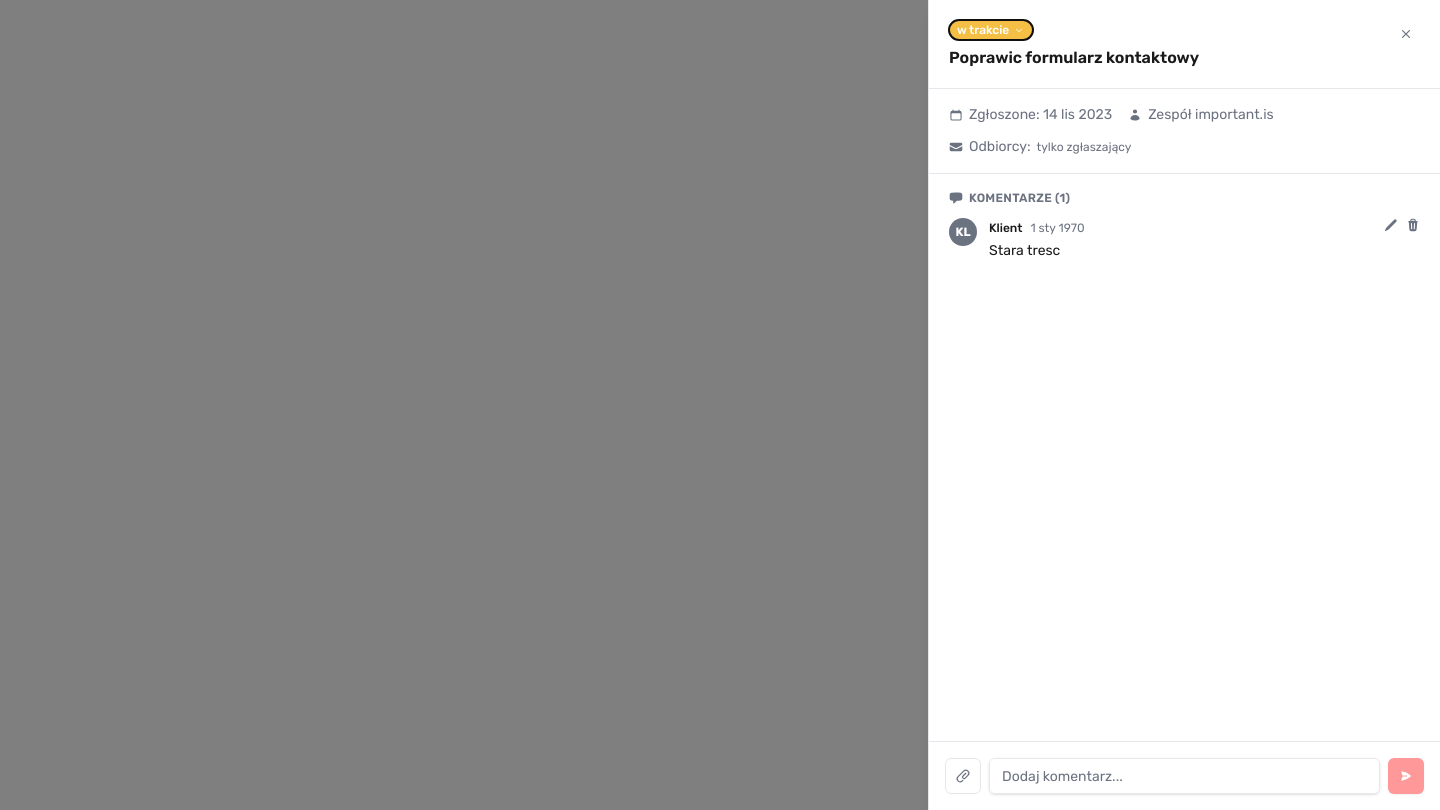
Test case: koegzystencja dropdownu statusu i edycji komentarza › otwarcie menu statusu NIE rusza trybu edycji komentarza
The image size is (1440, 810).
Check: the text "Stara tresc" is shown, box [989,242,1060,259]
Click the button named "Edytuj komentarz" at (1391, 225), box [1384,218,1398,232]
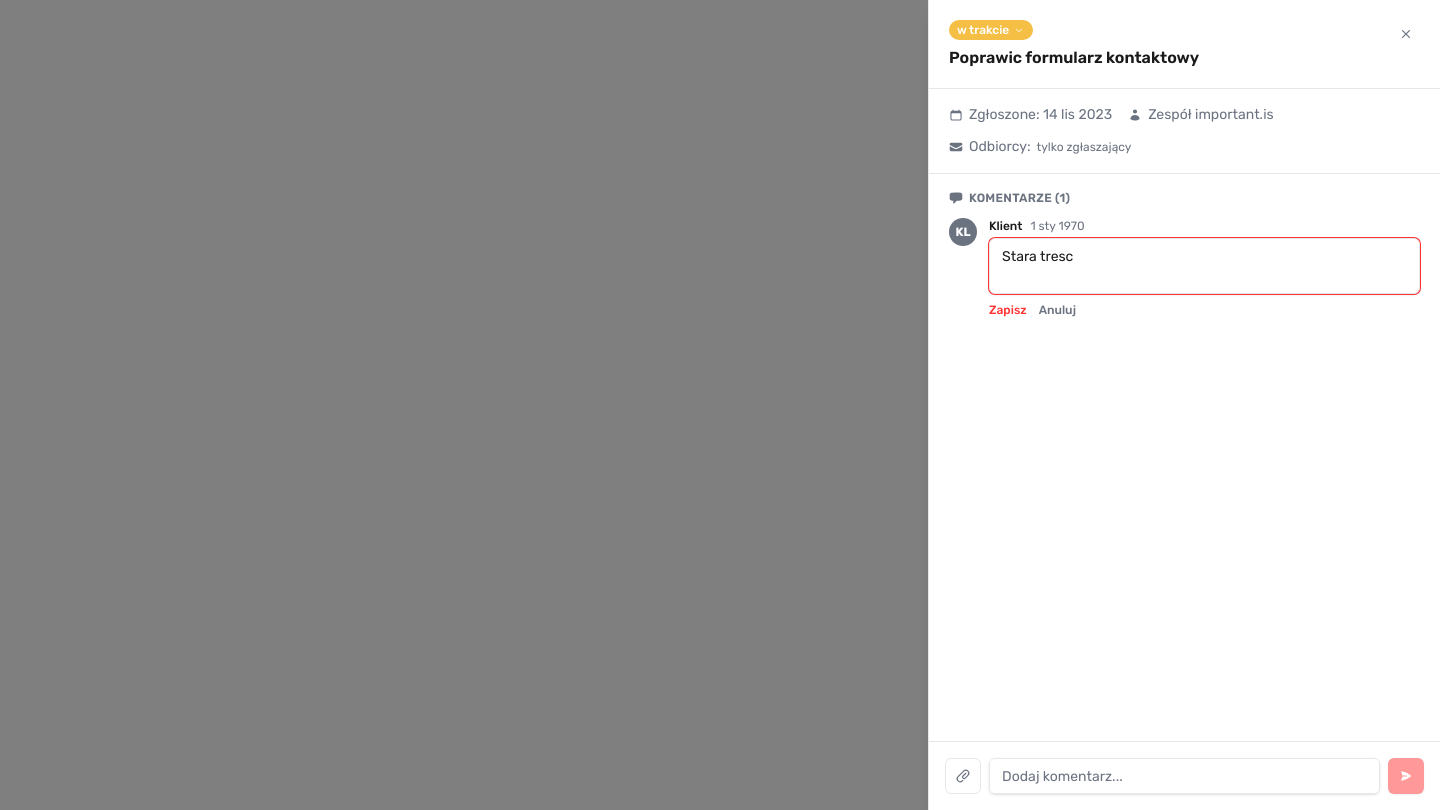
Type " dopisek" into the text box showing "Stara tresc" at (1204, 266), box [989,238,1420,294]
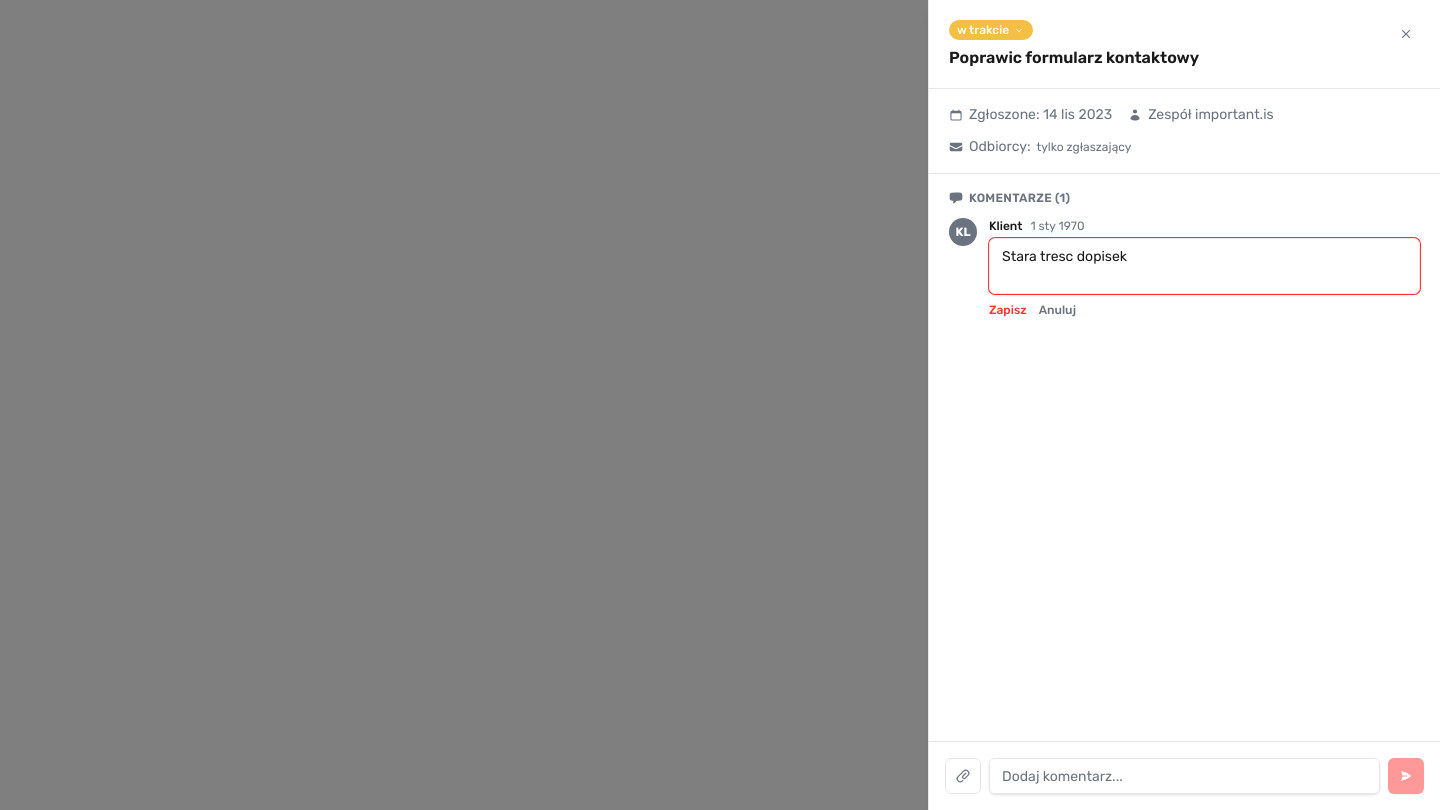
Click the button "w trakcie" at (991, 30), box [949,20,1033,40]
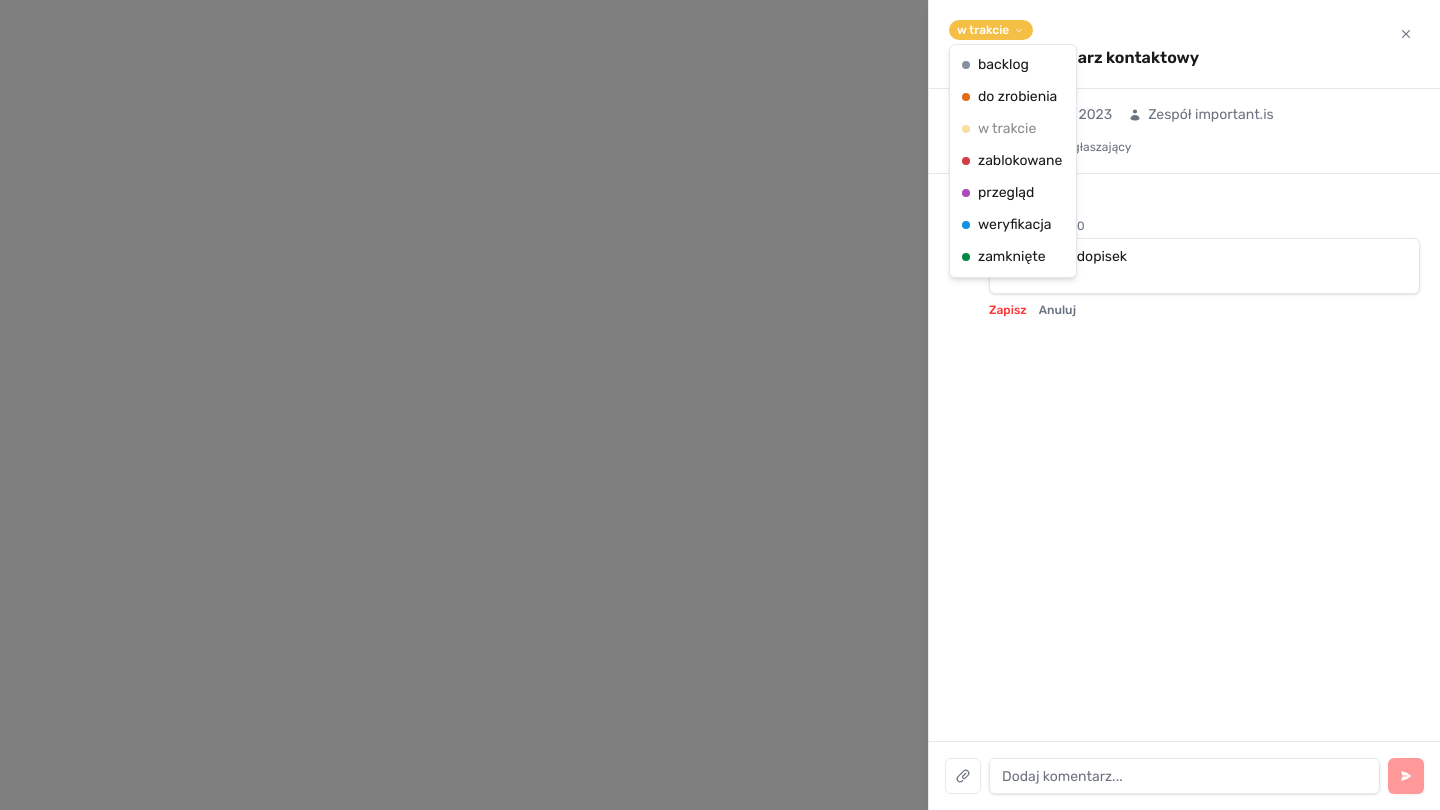
Check: the menu is shown, box [949,44,1077,278]
